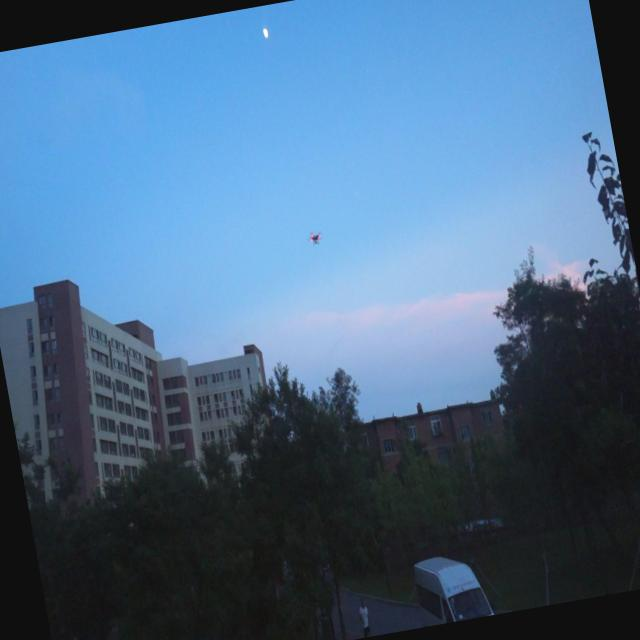drone: (306, 227, 324, 250)
